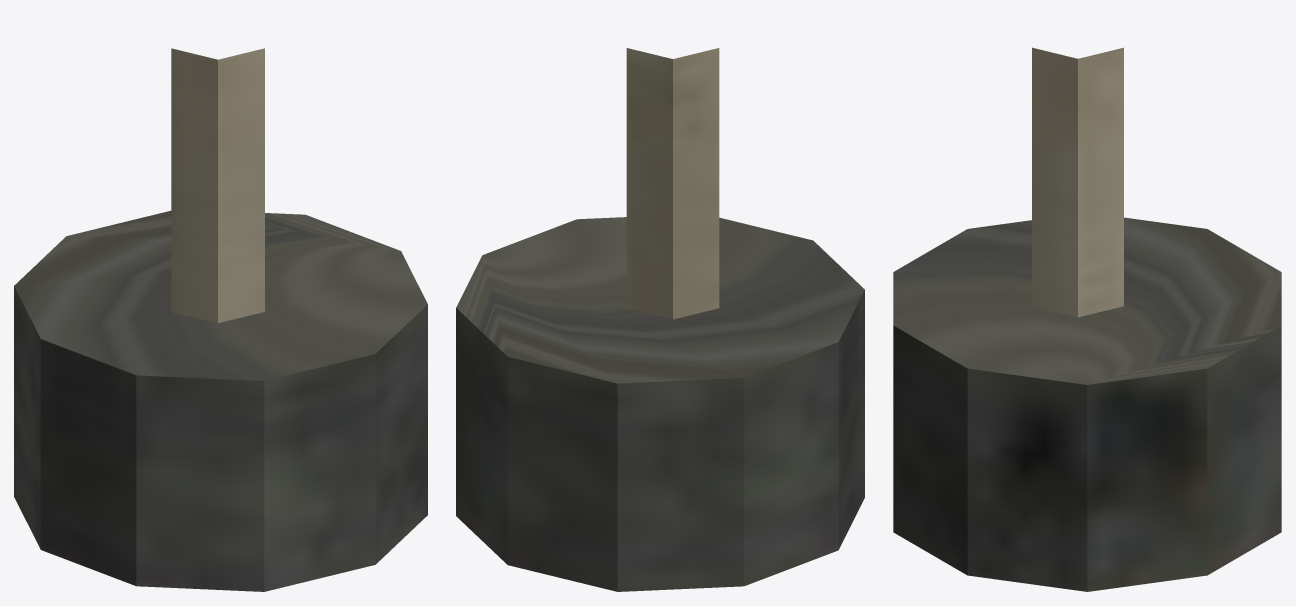
The model's file is prop_german_panzer_part_1.glb.
The picture shows the model from 3 angles, left to right: view 1: azimuth 30°, elevation 25°; view 2: azimuth 150°, elevation 25°; view 3: azimuth 270°, elevation 25°; orthographic projection.
Size of the model in its own units: 11.2 by 14.09 by 10.65.
Materials: 1 (1 with a texture image).
